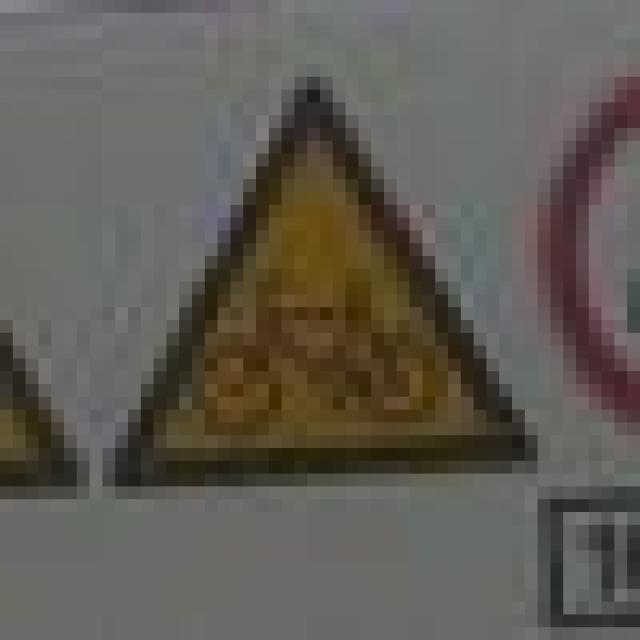cycle_crossing: (90, 76, 524, 474)
